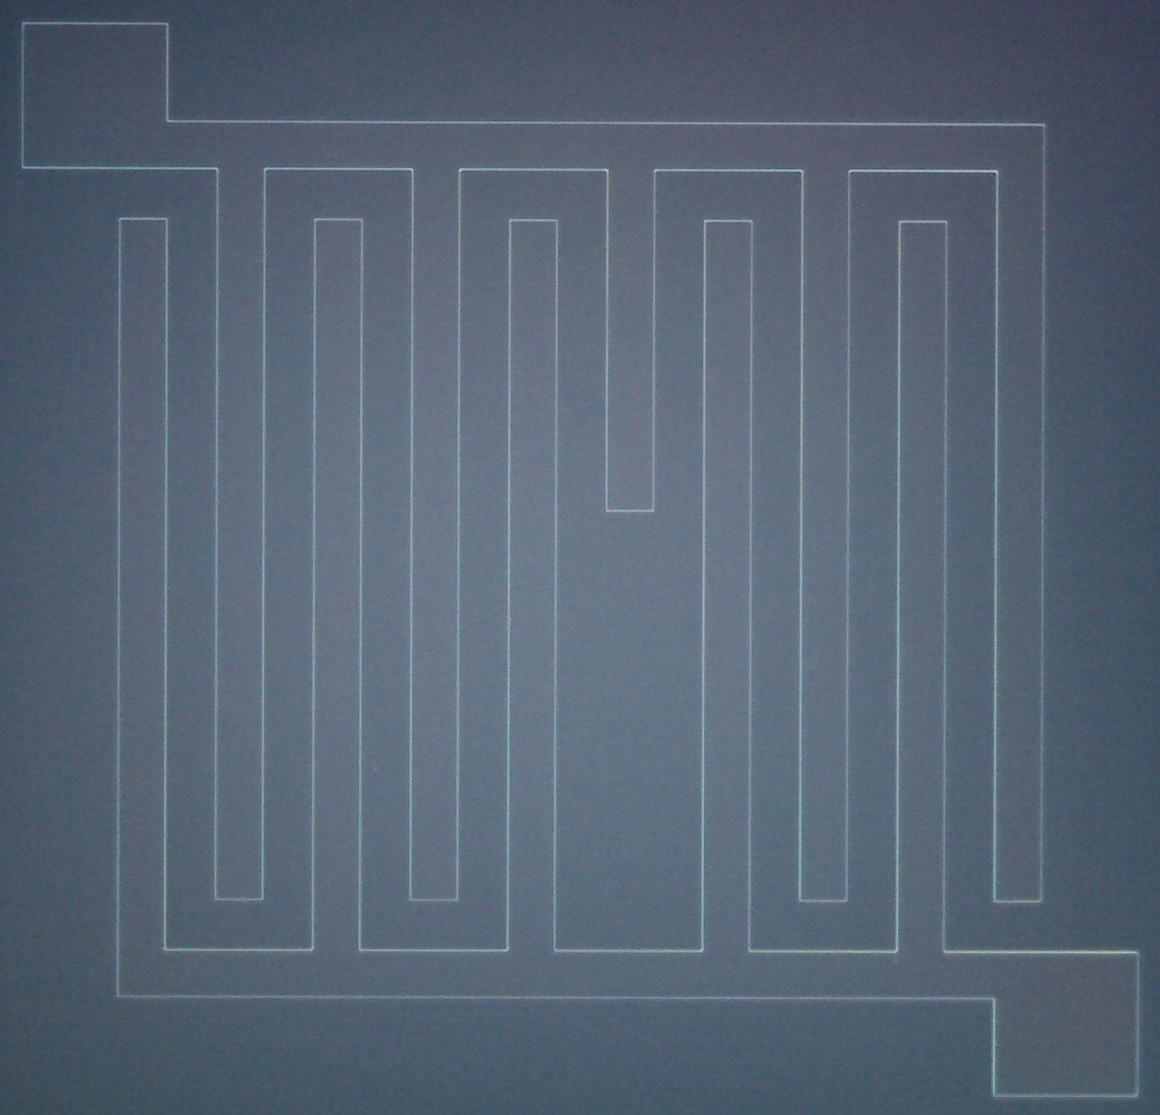s_point: (372, 765, 378, 771), (892, 959, 897, 963)
short: (538, 107, 720, 964)
